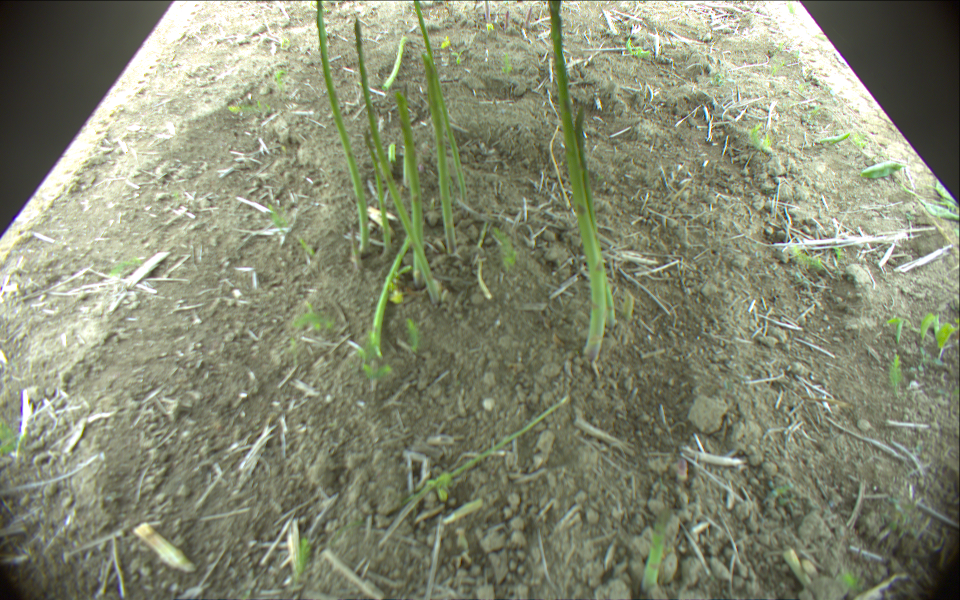aspa: (355, 18, 441, 303), (547, 1, 607, 360), (314, 1, 370, 256), (413, 1, 469, 203), (575, 107, 617, 328), (422, 53, 459, 256), (394, 92, 425, 289), (370, 234, 410, 355), (364, 132, 391, 255), (641, 506, 671, 600), (381, 36, 407, 91), (351, 226, 363, 268), (525, 6, 534, 29), (486, 1, 492, 25), (505, 11, 510, 31)
